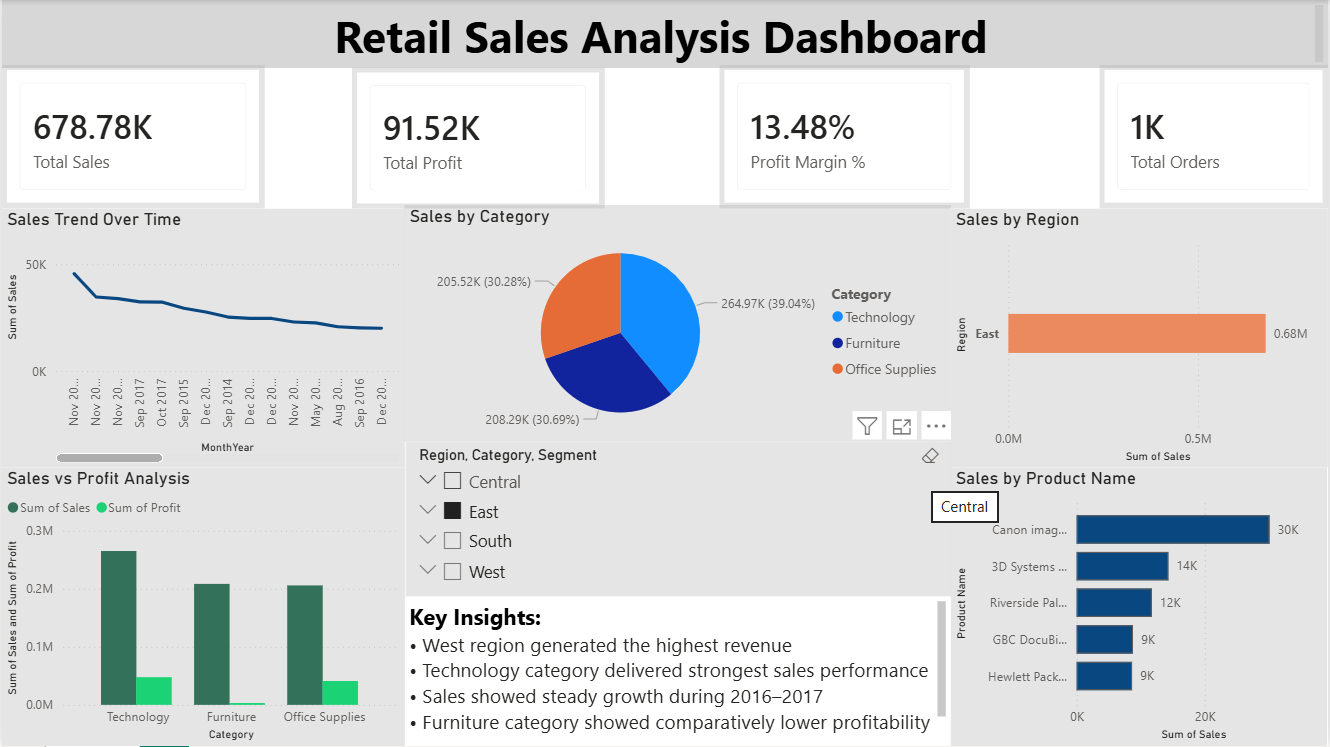

Layout of this report page (visuals, bound fields, positions):
{"tool":"powerbi","page":{"name":"Page 1","canvas":[1280,720],"ordinal":0},"visuals":[{"type":"lineChart","title":"Sales Trend Over Time","fields":{"Y":["Sum(Sample - Superstore.Sales)"],"Category":["Sample - Superstore.MonthYear"]},"box":[0,201.5,388.5,249.7],"z":0},{"type":"barChart","title":"Sales by Region","fields":{"Category":["Sample - Superstore.Region"],"Y":["Sum(Sample - Superstore.Sales)"]},"box":[915.7,201.5,364.3,249.7],"z":1000},{"type":"pieChart","title":"Sales by Category","fields":{"Category":["Sample - Superstore.Category"],"Y":["Sum(Sample - Superstore.Sales)"]},"box":[388.5,197.9,527.2,228],"z":2000},{"type":"barChart","title":"Sales by Product Name","fields":{"Category":["Sample - Superstore.Product Name"],"Y":["Sum(Sample - Superstore.Sales)"]},"box":[915.7,451.2,363.1,269],"z":3000},{"type":"slicer","fields":{"Values":["Sample - Superstore.Region","Sample - Superstore.Category","Sample - Superstore.Segment"]},"box":[389.7,425.9,527.2,149.6],"z":4000},{"type":"textbox","box":[0,0,1280,65.7],"z":5000},{"type":"textbox","box":[388.5,575.5,527.2,144.8],"z":6000},{"type":"clusteredColumnChart","title":"Sales vs Profit Analysis","fields":{"Category":["Sample - Superstore.Category"],"Y":["Sum(Sample - Superstore.Sales)","Sum(Sample - Superstore.Profit)"]},"box":[0,451.2,388.5,269],"z":7000},{"type":"cardVisual","fields":{"Data":["Sum(Sample - Superstore.Sales)"]},"box":[0,62.7,253.4,138.7],"z":8000},{"type":"cardVisual","fields":{"Data":["Sum(Sample - Superstore.Profit)"]},"box":[337.8,65.1,243.7,136.3],"z":9000},{"type":"cardVisual","fields":{"Data":["Sample - Superstore.Total Orders"]},"box":[1059.3,62.7,220.8,138.7],"z":10000},{"type":"cardVisual","fields":{"Data":["Sample - Superstore.Profit Margin %"]},"box":[692.5,62.7,241.3,138.7],"z":11000}]}

Visuals, with their boxes in screenshot pixels (x1, y1, x2, y2), scaled from the page's 1280x720 canvas onto the 1330x747 screenshot:
"Sales Trend Over Time" lineChart: (0, 209, 404, 468)
"Sales by Region" barChart: (951, 209, 1329, 468)
"Sales by Category" pieChart: (404, 205, 951, 442)
"Sales by Product Name" barChart: (951, 468, 1329, 746)
slicer - Sample - Superstore.Region x Sample - Superstore.Category: (405, 442, 953, 597)
textbox: (0, 0, 1329, 68)
textbox: (404, 597, 951, 746)
"Sales vs Profit Analysis" clusteredColumnChart: (0, 468, 404, 746)
cardVisual - Sum(Sample - Superstore.Sales): (0, 65, 263, 209)
cardVisual - Sum(Sample - Superstore.Profit): (351, 68, 604, 209)
cardVisual - Sample - Superstore.Total Orders: (1101, 65, 1329, 209)
cardVisual - Sample - Superstore.Profit Margin %: (720, 65, 970, 209)
